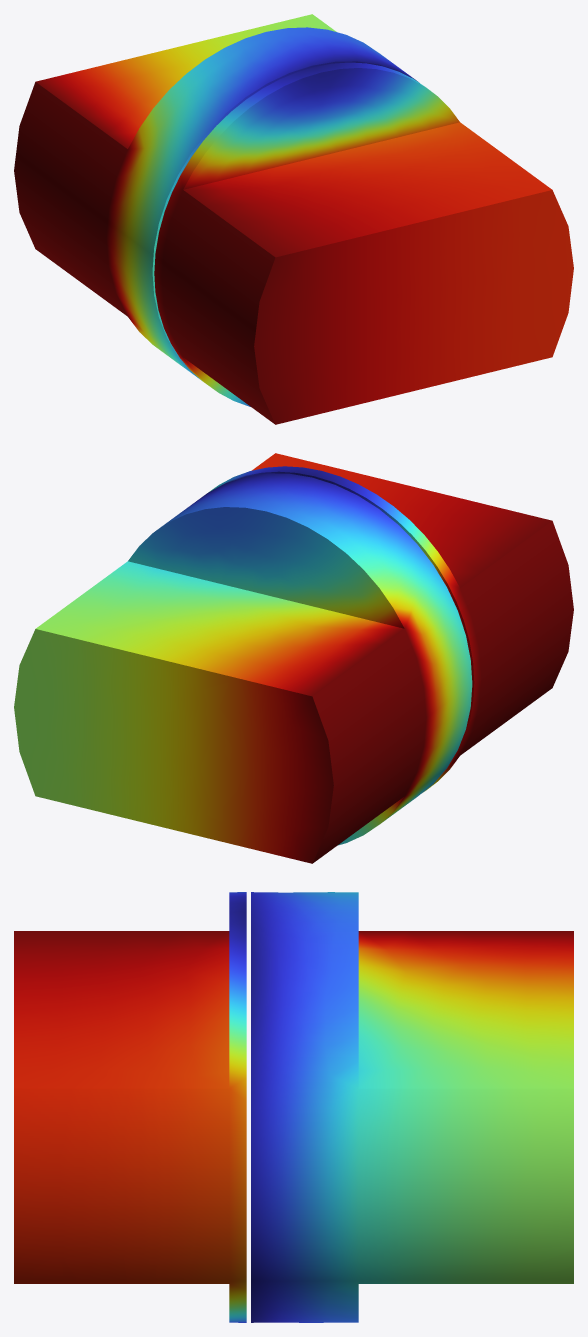
File: PilaH2-O2_mh2-6.88_V-0.7.glb
3 views of the same model, one above another, from view 1: azimuth 30°, elevation 25°; view 2: azimuth 150°, elevation 25°; view 3: azimuth 270°, elevation 25° (orthographic). The views are drawn at different scales.
Bounding box in the file's own units: 0.001 × 0.001 × 0.0013.
Materials: 2 (2 with a texture image).
